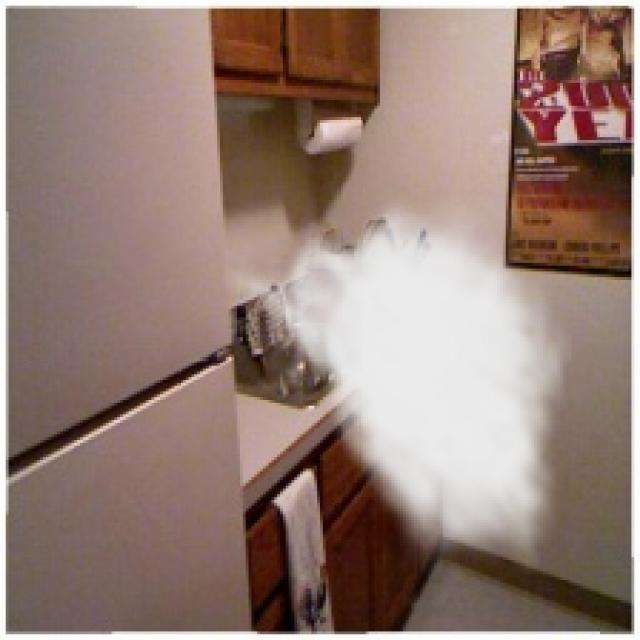smoke: (217, 192, 574, 577)
